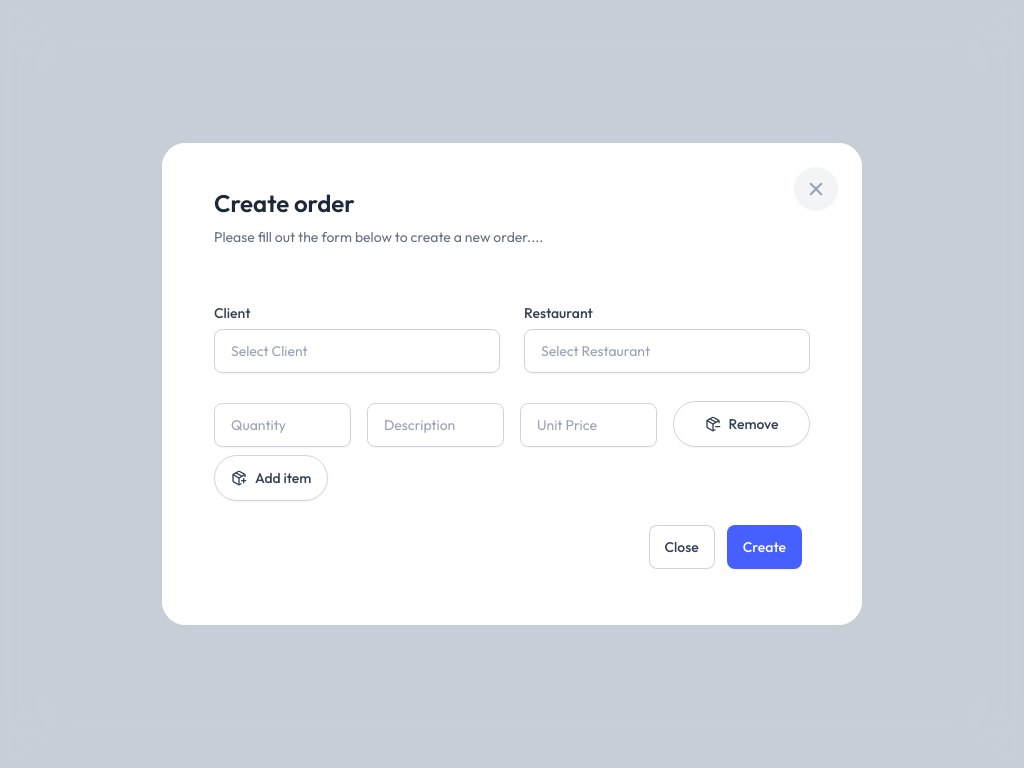
OrderModal › should show error if item fields are empty
Expected: the heading "Create order" is shown, [214,188,355,218]
Click the button "Create".
click(764, 547)  # box [727,525,802,569]
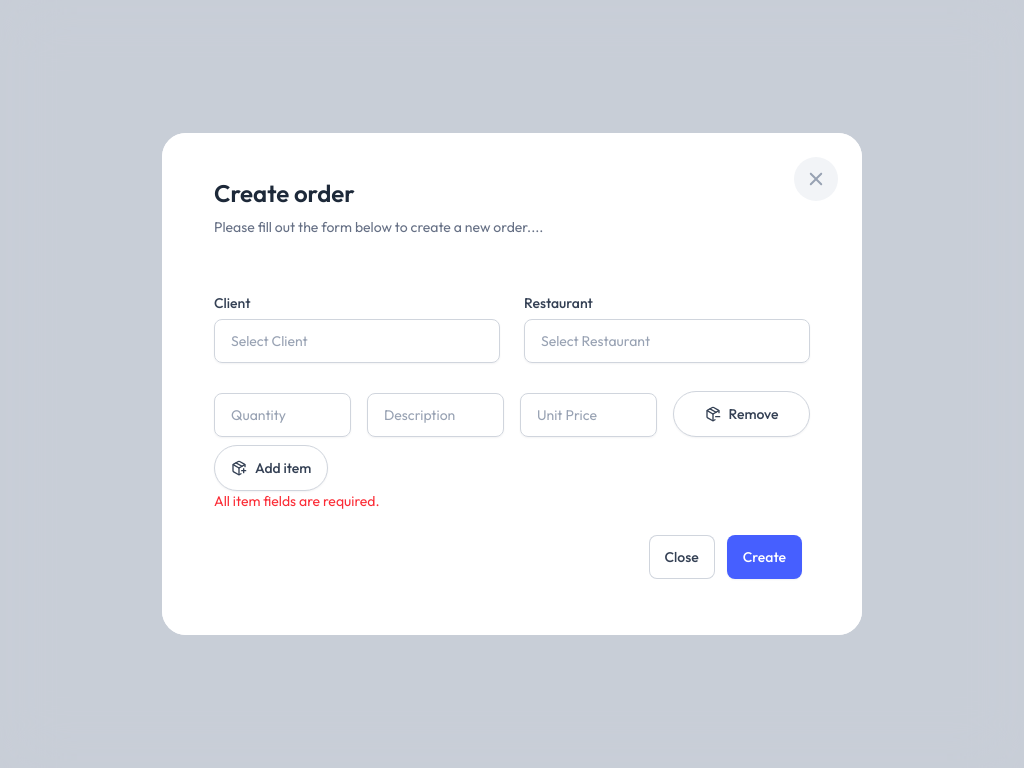
Now the text "All item fields are required." is shown, box [214,492,380,510]
